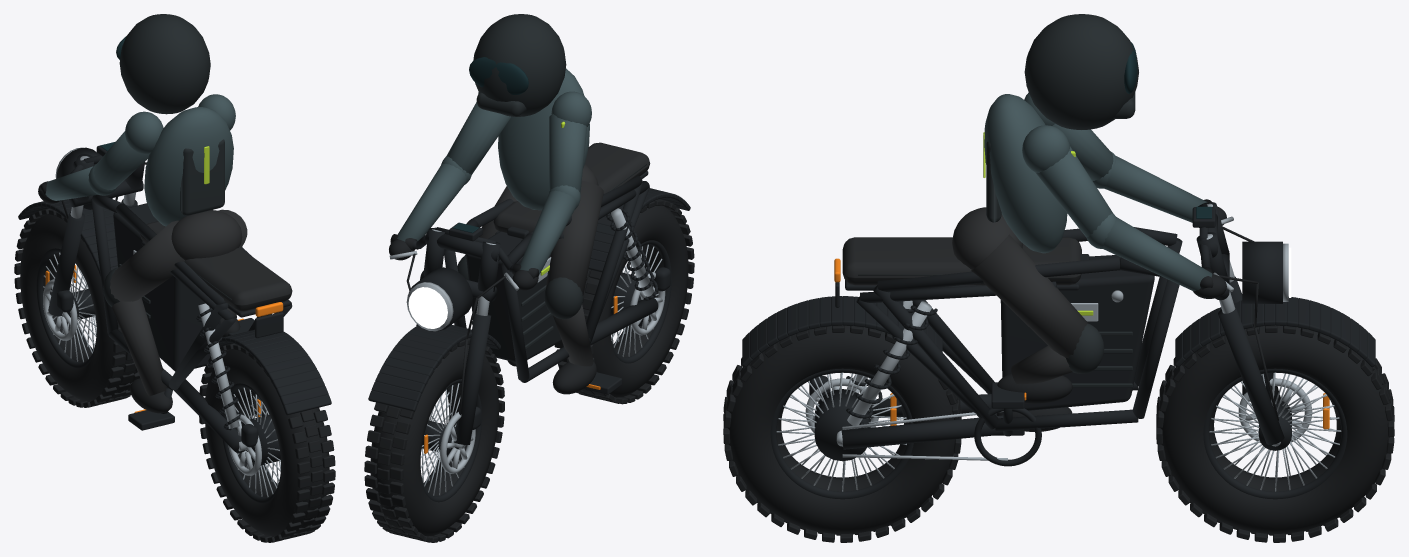
File: ebike-scrambler.glb
3 views of the same model, side by side, from view 1: azimuth 30°, elevation 25°; view 2: azimuth 150°, elevation 25°; view 3: azimuth 270°, elevation 25° (orthographic). The views are drawn at different scales.
Visible parts, largest first — view 1: BIKE_VR3 Satin black alloy, BIKE_VR2 Tyre rubber, RIDER_VR2 Technical riding jacket, RIDER_VR2 Graphite ceramic, RIDER_VR2 Cordura riding pants, BIKE_VR2 Brushed titanium, BIKE_VR3 Bench saddle leather, RIDER_VR2 Tyre rubber, BIKE_VR3 Amber reflector; view 2: BIKE_VR3 Satin black alloy, BIKE_VR2 Tyre rubber, RIDER_VR2 Technical riding jacket, RIDER_VR2 Graphite ceramic, BIKE_VR2 Brushed titanium, RIDER_VR2 Cordura riding pants, BIKE_VR3 Bench saddle leather, RIDER_VR2 Tyre rubber, RIDER_VR2 Smoke visor, BIKE_VR2 LED, BIKE_VR2 Graphite ceramic; view 3: BIKE_VR3 Satin black alloy, BIKE_VR2 Tyre rubber, RIDER_VR2 Technical riding jacket, RIDER_VR2 Graphite ceramic, BIKE_VR2 Brushed titanium, RIDER_VR2 Cordura riding pants, BIKE_VR3 Bench saddle leather, RIDER_VR2 Tyre rubber, BIKE_VR2 Graphite ceramic.
Part boxes in pixels (<box>): BIKE_VR3 Satin black alloy: <box>18,145,331,503</box>; BIKE_VR2 Tyre rubber: <box>14,162,335,542</box>; RIDER_VR2 Technical riding jacket: <box>45,94,235,226</box>; RIDER_VR2 Graphite ceramic: <box>103,14,224,306</box>; RIDER_VR2 Cordura riding pants: <box>110,209,247,396</box>; BIKE_VR2 Brushed titanium: <box>39,147,280,497</box>; BIKE_VR3 Bench saddle leather: <box>140,221,292,311</box>; RIDER_VR2 Tyre rubber: <box>38,181,240,413</box>; BIKE_VR3 Amber reflector: <box>45,265,283,417</box>; BIKE_VR3 Satin black alloy: <box>368,171,690,502</box>; BIKE_VR2 Tyre rubber: <box>364,199,694,542</box>; RIDER_VR2 Technical riding jacket: <box>397,68,591,275</box>; RIDER_VR2 Graphite ceramic: <box>457,14,583,319</box>; BIKE_VR2 Brushed titanium: <box>389,208,665,495</box>; RIDER_VR2 Cordura riding pants: <box>465,164,603,366</box>; BIKE_VR3 Bench saddle leather: <box>493,142,650,232</box>; RIDER_VR2 Tyre rubber: <box>389,239,596,394</box>; RIDER_VR2 Smoke visor: <box>469,57,528,94</box>; BIKE_VR2 LED: <box>408,287,447,328</box>; BIKE_VR2 Graphite ceramic: <box>472,164,646,349</box>; BIKE_VR3 Satin black alloy: <box>742,202,1375,499</box>; BIKE_VR2 Tyre rubber: <box>723,199,1394,542</box>; RIDER_VR2 Technical riding jacket: <box>984,92,1212,291</box>; RIDER_VR2 Graphite ceramic: <box>986,14,1138,373</box>; BIKE_VR2 Brushed titanium: <box>776,203,1341,491</box>; RIDER_VR2 Cordura riding pants: <box>952,207,1088,384</box>; BIKE_VR3 Bench saddle leather: <box>842,237,1081,285</box>; RIDER_VR2 Tyre rubber: <box>996,206,1226,431</box>; BIKE_VR2 Graphite ceramic: <box>858,274,1132,387</box>.
Size of the model in its own units: 0.75 by 2.23 by 2.64.
